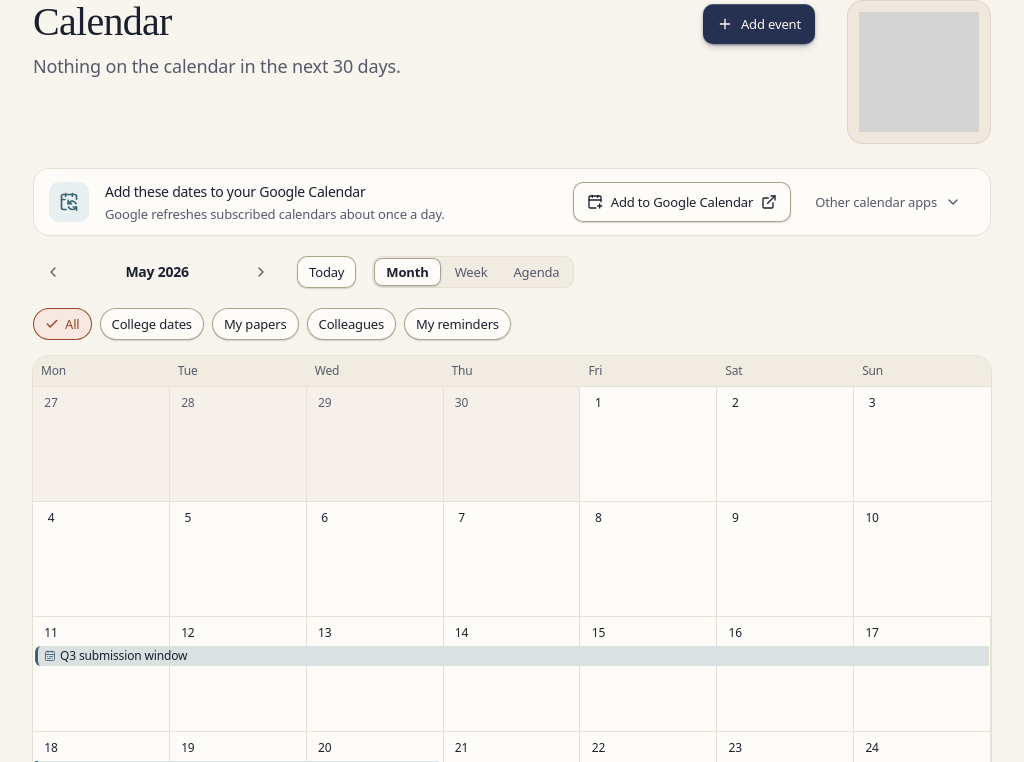
Test: The event sheet › shows the details and no edit buttons for somebody else's event
Click the 1st button "Q3 submission window": (124, 656) top-left (35, 646), bottom-right (989, 666)
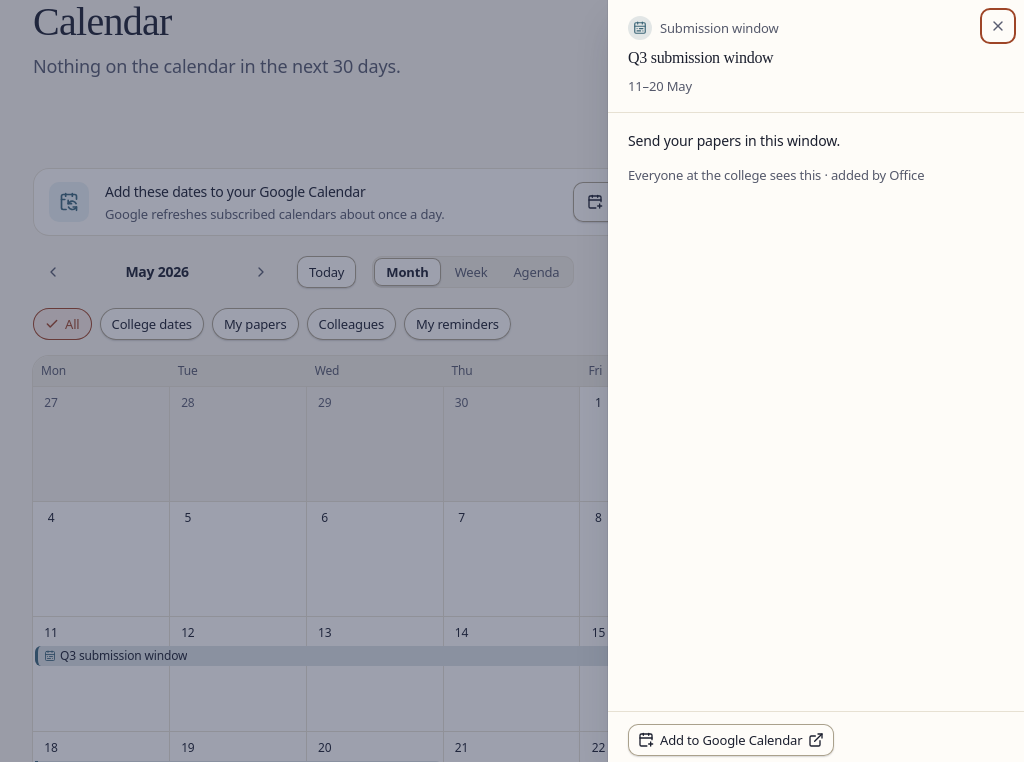
Check: the text "Send your papers in this window." is shown, box top-left (628, 131), bottom-right (840, 150)
Check: the text "11–20 May" is shown, box top-left (628, 77), bottom-right (692, 95)
